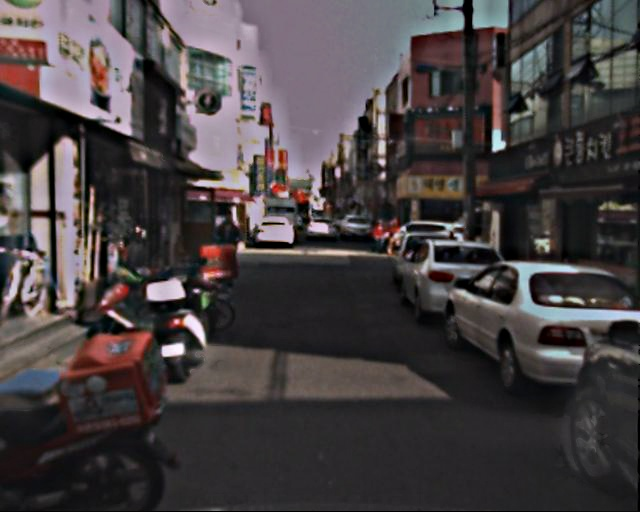person: (214, 209, 247, 289), (387, 217, 403, 256), (372, 220, 386, 254)
